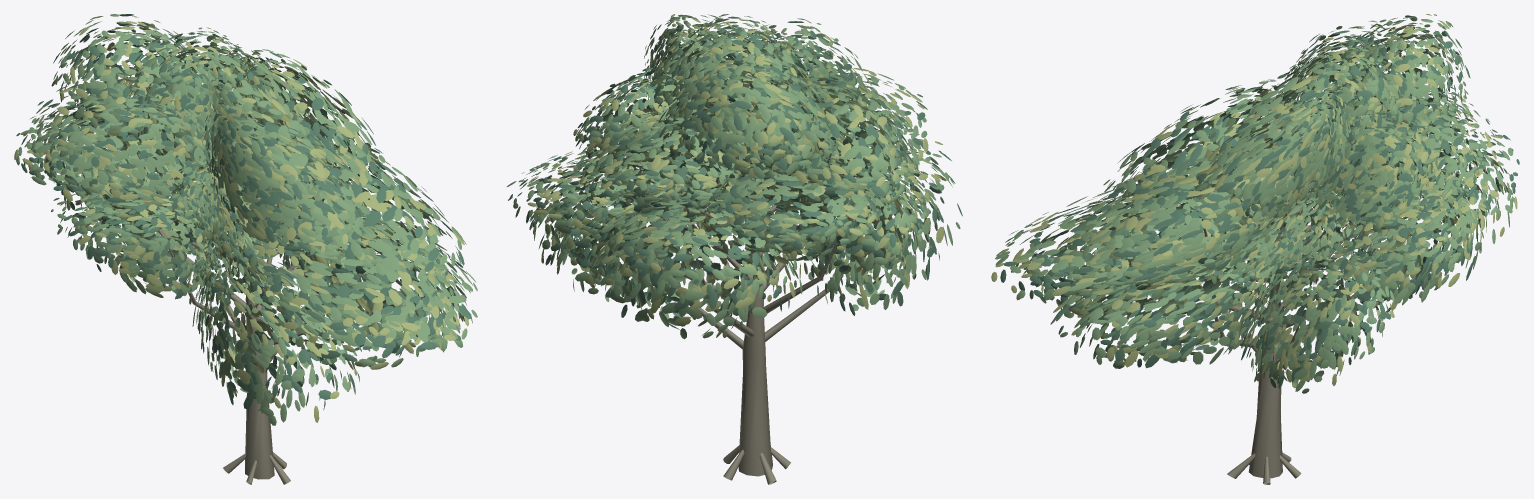
Rendered from grove_4.glb.
3 renders of one model, left to right at view 1: azimuth 30°, elevation 25°; view 2: azimuth 150°, elevation 25°; view 3: azimuth 270°, elevation 25°, orthographic. The views are drawn at different scales.
Parts seen in each view (by area): view 1: study_canopy_1_StudyLeafJade, study_canopy_1_StudyLeafDeep, study_canopy_1_StudyLeafGold, study_canopy_1_StudyBark; view 2: study_canopy_1_StudyLeafJade, study_canopy_1_StudyLeafDeep, study_canopy_1_StudyLeafGold, study_canopy_1_StudyBark; view 3: study_canopy_1_StudyLeafJade, study_canopy_1_StudyLeafDeep, study_canopy_1_StudyLeafGold, study_canopy_1_StudyBark.
Boxes of the visible parts, box(x1,y1,x2,y2) form: study_canopy_1_StudyLeafJade: box(16, 14, 477, 425); study_canopy_1_StudyLeafDeep: box(16, 14, 471, 410); study_canopy_1_StudyLeafGold: box(14, 16, 468, 422); study_canopy_1_StudyBark: box(114, 87, 362, 484); study_canopy_1_StudyLeafJade: box(507, 14, 960, 339); study_canopy_1_StudyLeafDeep: box(509, 14, 962, 329); study_canopy_1_StudyLeafGold: box(522, 14, 946, 337); study_canopy_1_StudyBark: box(614, 128, 848, 484); study_canopy_1_StudyLeafJade: box(995, 14, 1514, 393); study_canopy_1_StudyLeafDeep: box(1000, 15, 1519, 388); study_canopy_1_StudyLeafGold: box(991, 14, 1517, 386); study_canopy_1_StudyBark: box(1148, 96, 1397, 484).
Size of the model in its own units: 7.67 by 9.37 by 10.63.
